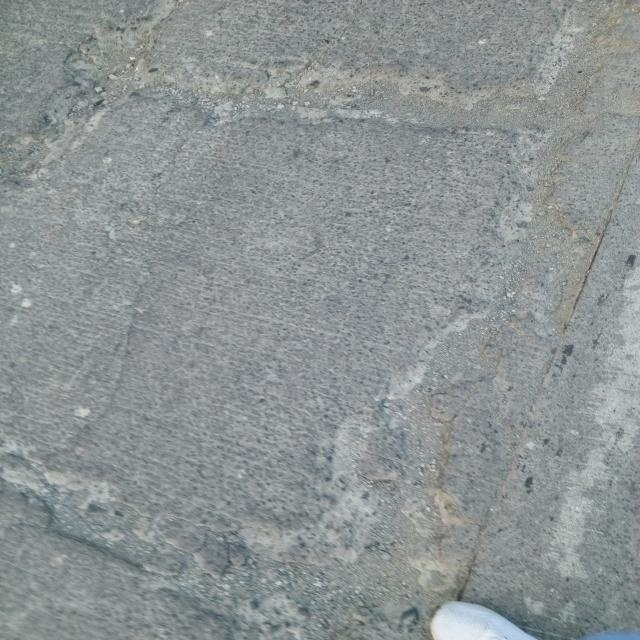pothole: (0, 8, 622, 640)
